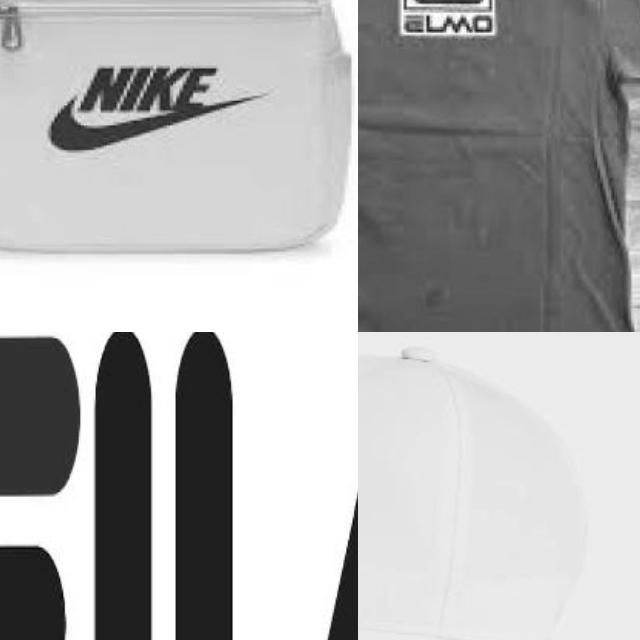FILA_fake: (375, 0, 525, 45)
FILA_original: (0, 332, 358, 640)
NIKE_original: (36, 42, 278, 172)
